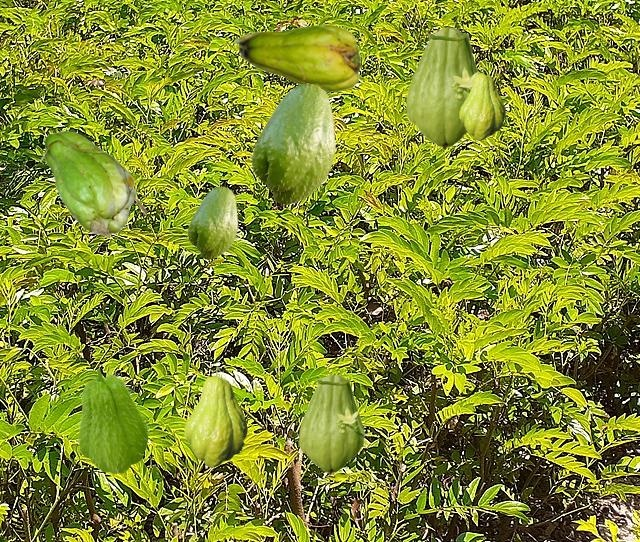sayote: (39, 130, 145, 236), (249, 83, 335, 205), (405, 27, 479, 149), (233, 24, 359, 91), (76, 367, 149, 473), (298, 374, 370, 474), (184, 366, 246, 466), (186, 186, 237, 259), (459, 66, 504, 139)
